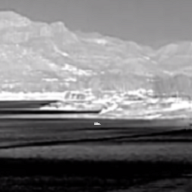Target: (93, 122, 101, 126)
